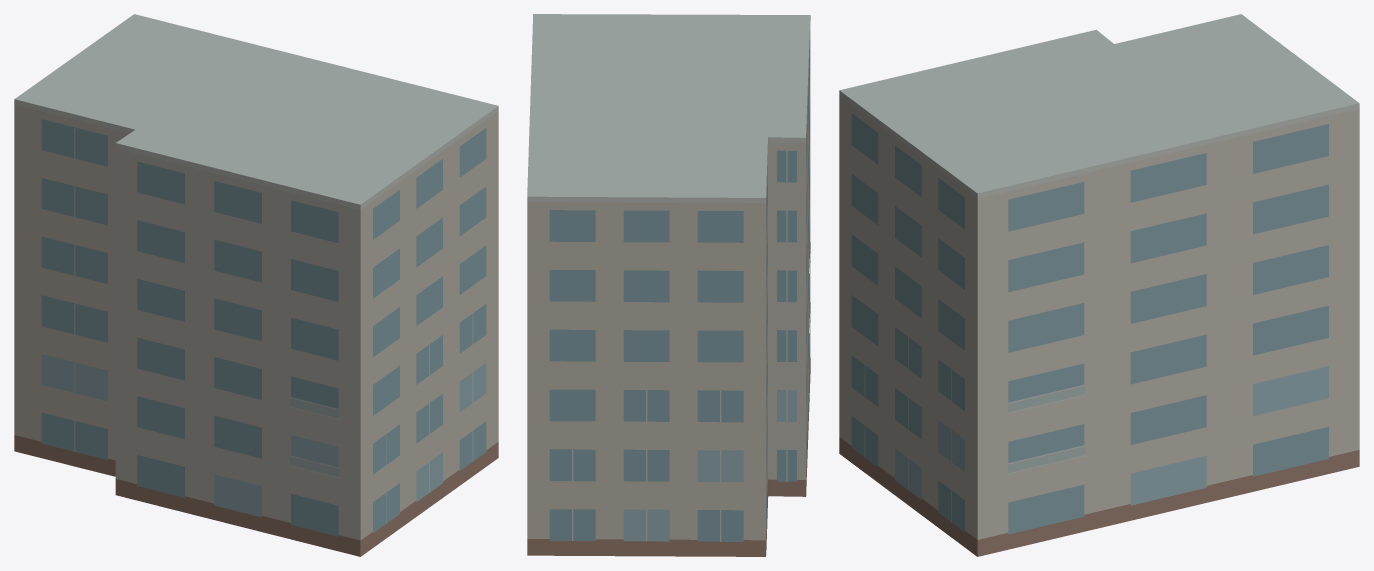
File: survey-upis-32948127.glb
The picture shows the model from 3 angles, left to right: view 1: azimuth 30°, elevation 25°; view 2: azimuth 150°, elevation 25°; view 3: azimuth 270°, elevation 25°; orthographic projection. The views are drawn at different scales.
Parts seen in each view (by area): view 1: survey-upis-32948127.tmp; view 2: survey-upis-32948127.tmp; view 3: survey-upis-32948127.tmp.
Boxes of the visible parts, x1,y1,x2,y2 form: survey-upis-32948127.tmp: (14, 14, 498, 556); survey-upis-32948127.tmp: (527, 14, 810, 556); survey-upis-32948127.tmp: (839, 14, 1359, 556).
Size of the model in its own units: 17.59 by 16.6 by 21.55.
